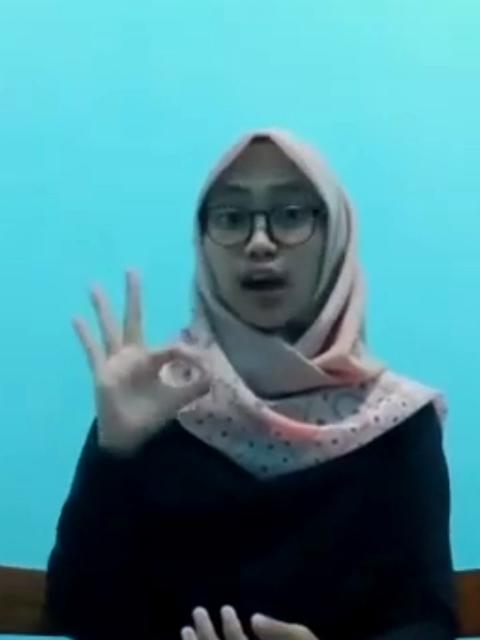F: (68, 265, 216, 455)
